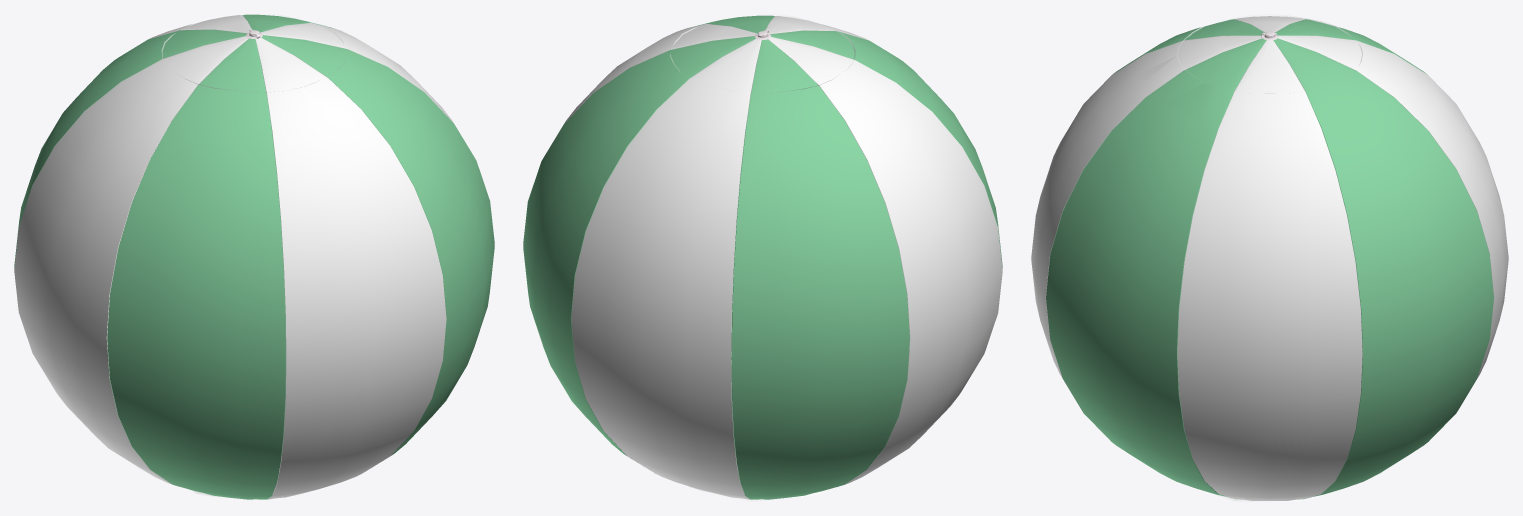
The model's file is ball.glb.
3 renders of one model, left to right at view 1: azimuth 30°, elevation 25°; view 2: azimuth 150°, elevation 25°; view 3: azimuth 270°, elevation 25°, orthographic.
Visible parts, largest first — view 1: Geom3D (×3); view 2: Geom3D (×3); view 3: Geom3D (×3).
Boxes of the visible parts, x1,y1,x2,y2 form: Geom3D (×3): [14, 14, 494, 501]; Geom3D (×3): [523, 14, 1002, 501]; Geom3D (×3): [1031, 14, 1508, 501].
Size of the model in its own units: 0.9759 by 1.01 by 0.9759.
